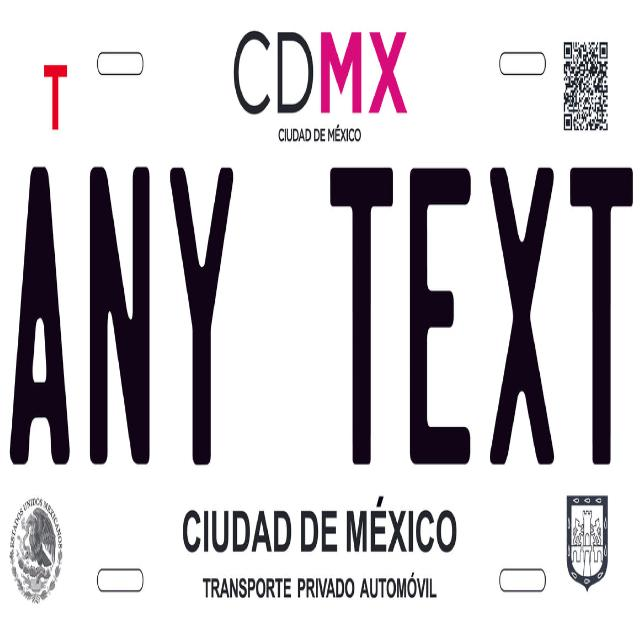placa: (6, 140, 638, 493)
